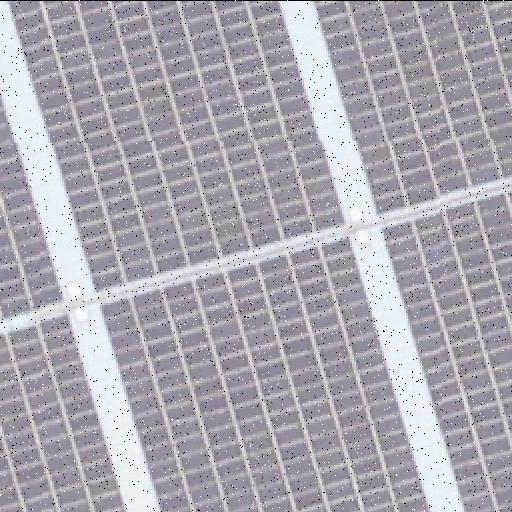solar-panel: (7, 0, 345, 288), (99, 240, 429, 512), (313, 0, 511, 216), (380, 192, 512, 512), (0, 312, 128, 512), (1, 91, 63, 317)
